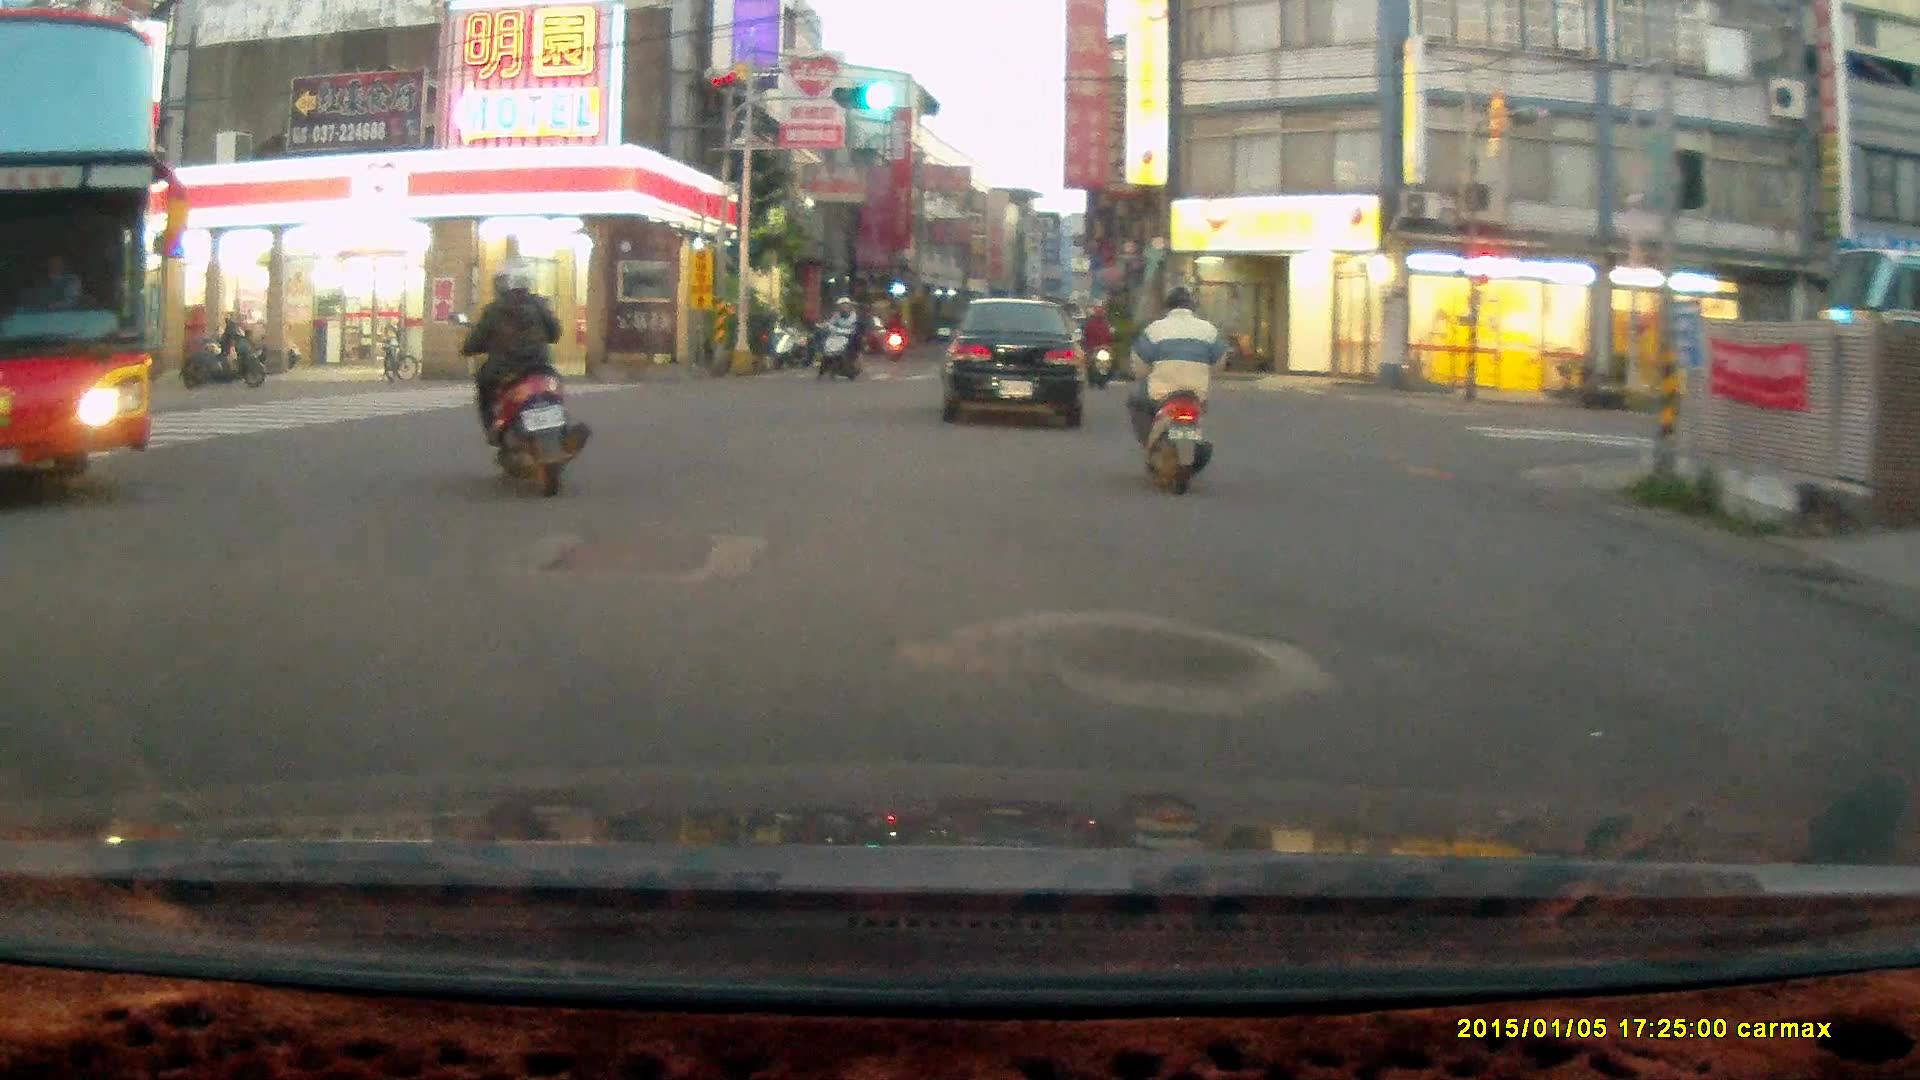rider: (447, 255, 587, 494), (1124, 286, 1218, 496), (815, 293, 869, 383), (1078, 300, 1116, 390)
vehicle: (1, 2, 157, 516), (942, 297, 1087, 431)
